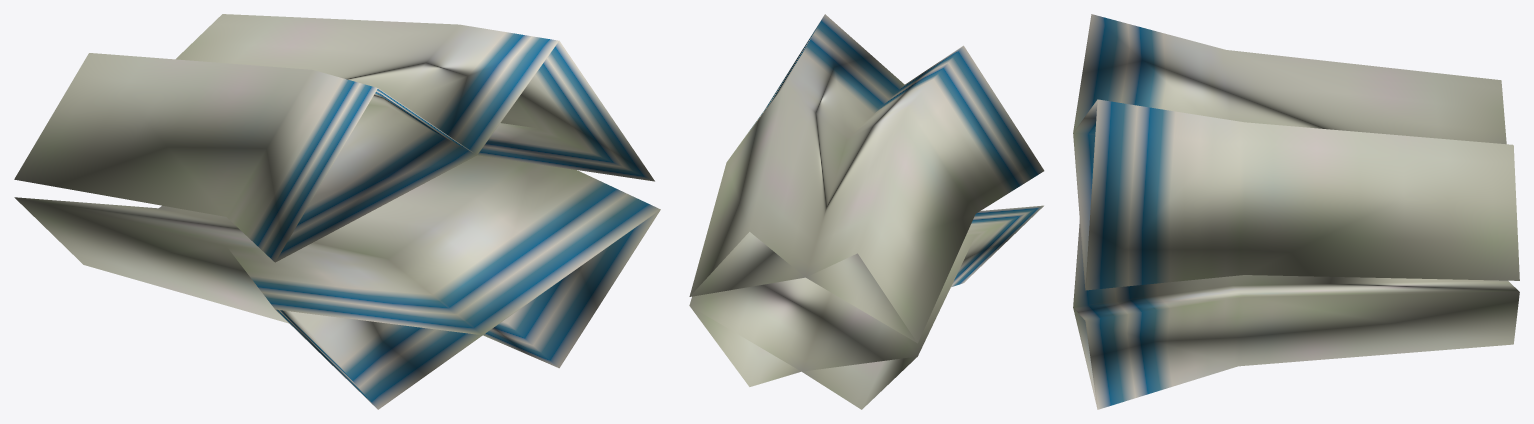
The model's file is batch_0089.obj.
3 renders of one model, left to right at view 1: azimuth 30°, elevation 25°; view 2: azimuth 150°, elevation 25°; view 3: azimuth 270°, elevation 25°, orthographic. The views are drawn at different scales.
Visible parts, largest first — view 1: batch_0089; view 2: batch_0089; view 3: batch_0089.
Part boxes in pixels (bbox=[...]): batch_0089: bbox=[14, 14, 660, 409]; batch_0089: bbox=[689, 14, 1044, 409]; batch_0089: bbox=[1073, 14, 1519, 409].
Size of the model in its own units: 19.25 by 14 by 18.25.
1 material, 1 textured.
